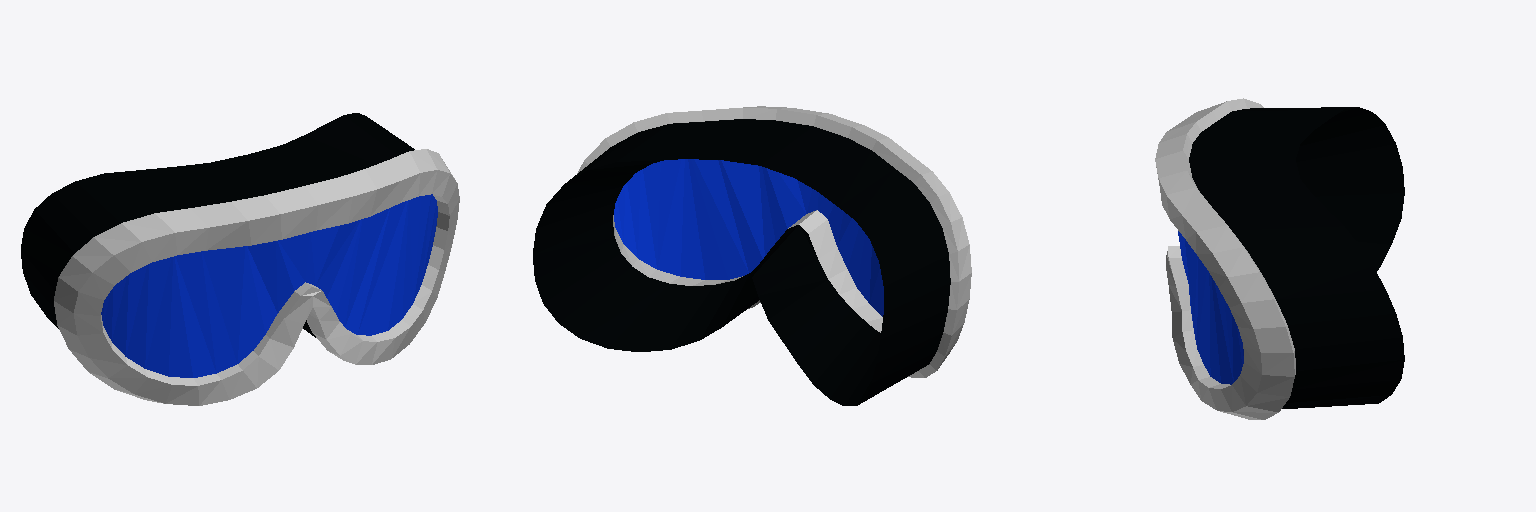
File: snowGoggles.obj
3 views of the same model, side by side, from view 1: azimuth 30°, elevation 25°; view 2: azimuth 150°, elevation 25°; view 3: azimuth 270°, elevation 25° (orthographic).
Visible parts, largest first — view 1: snowGoggles_Cylinder.021; view 2: snowGoggles_Cylinder.021; view 3: snowGoggles_Cylinder.021.
Part boxes in pixels (x1,y1,x2,y2): snowGoggles_Cylinder.021: (21, 113, 459, 405); snowGoggles_Cylinder.021: (533, 106, 971, 405); snowGoggles_Cylinder.021: (1155, 98, 1404, 419).
Size of the model in its own units: 1.17 by 0.6018 by 0.6454.